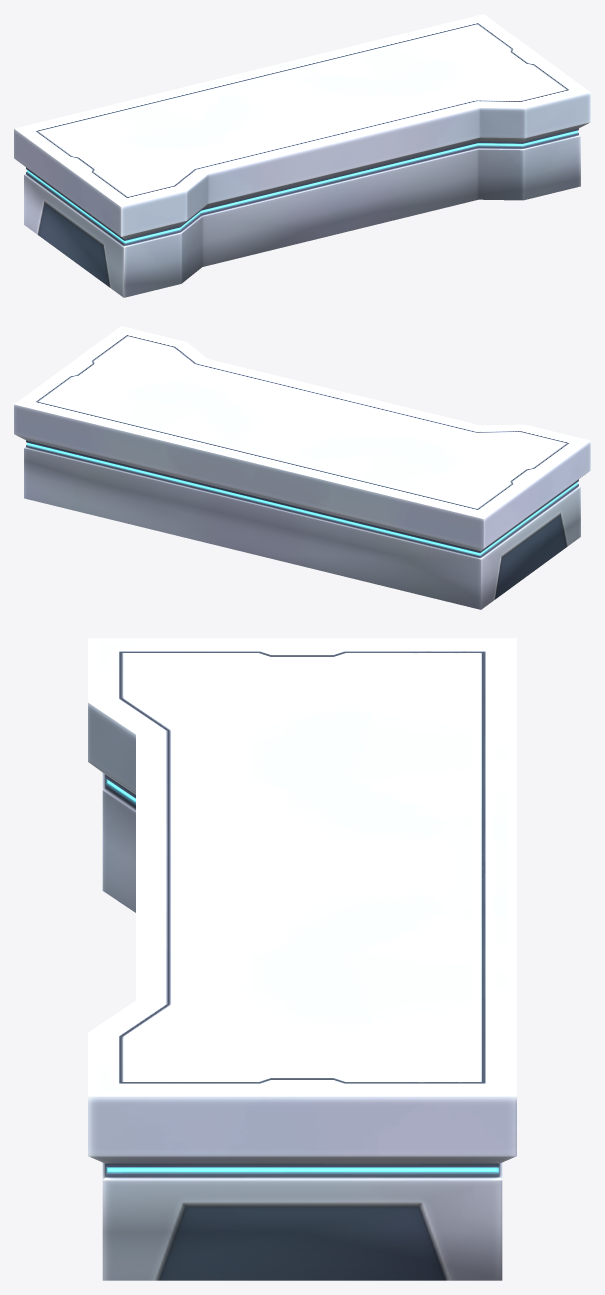
The model's file is obj_vtable.gltf.
3 renders of one model, top to bottom at view 1: azimuth 30°, elevation 25°; view 2: azimuth 150°, elevation 25°; view 3: azimuth 270°, elevation 25°, orthographic. The views are drawn at different scales.
Parts seen in each view (by area): view 1: obj_vtable; view 2: obj_vtable; view 3: obj_vtable.
Part boxes in pixels (bbox=[...]): obj_vtable: bbox=[14, 14, 590, 297]; obj_vtable: bbox=[14, 326, 590, 609]; obj_vtable: bbox=[88, 638, 516, 1280].
Size of what is drawn, in the model's own units: 3.71 by 0.717 by 1.47.
1 material, 1 textured.
